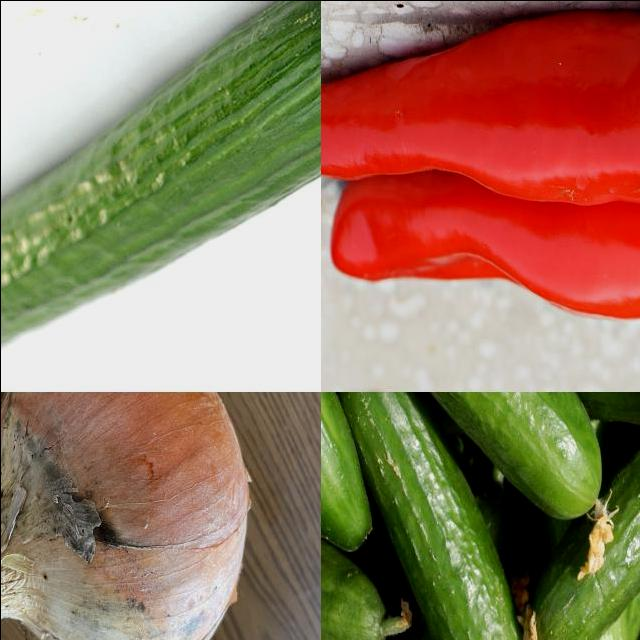cucumber: (1, 1, 321, 374), (327, 392, 528, 640), (321, 392, 606, 518), (528, 392, 640, 640), (321, 534, 394, 640)
onion: (1, 392, 251, 640)
